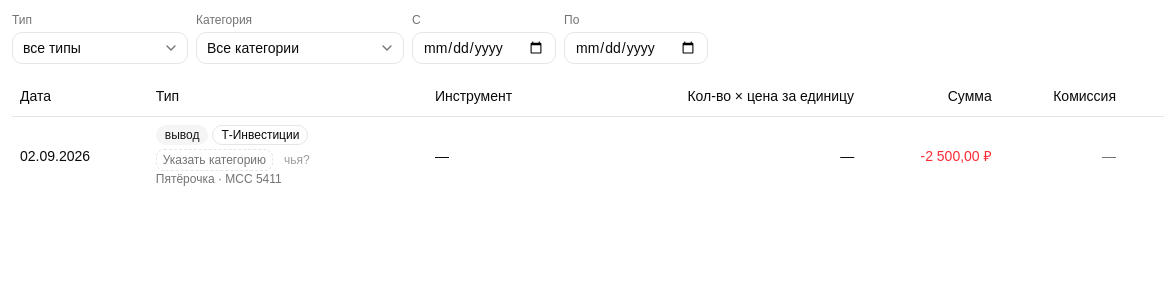
filing rules › files the waiting rows from the journal's «без категории»
Expected: the button with test id "operation-category" is shown, [156,148,273,170]
Press Enter in the dropdown named "Категория", box [196,32,404,64]
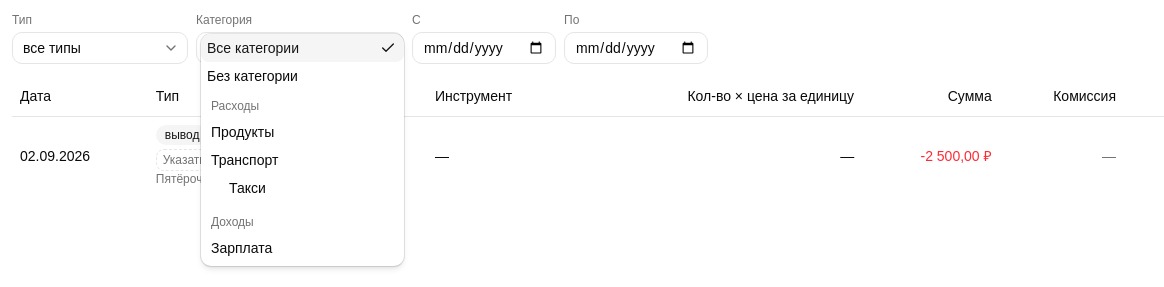
Click the option "Без категории" at (252, 76), box [207,68,298,84]
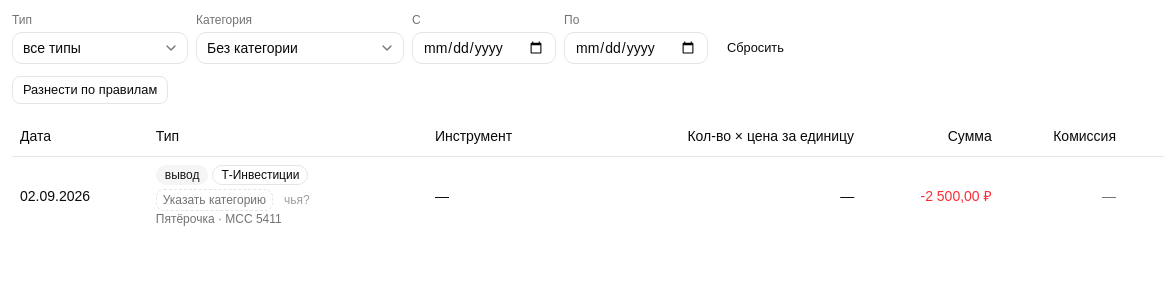
Click the button "Разнести по правилам" at (90, 90), box [12,76,168,104]
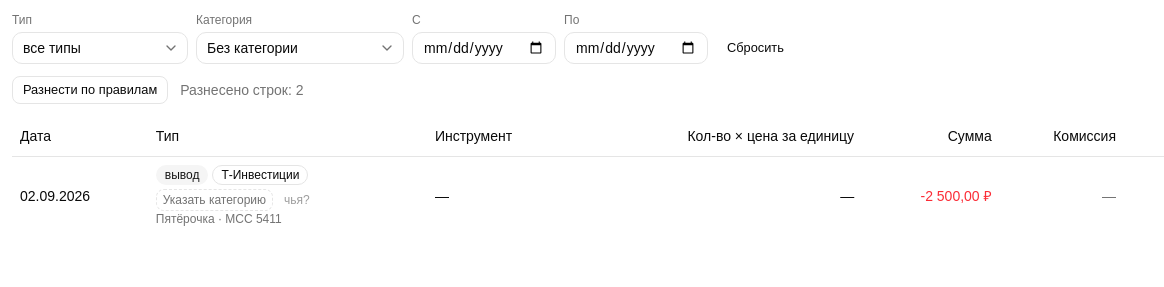
Result: the text "Разнесено строк: 2" is shown at [180,80,304,100]
